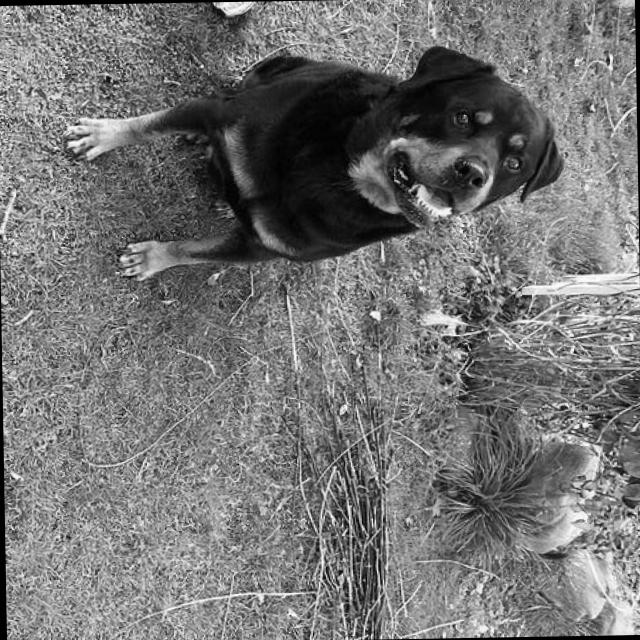sitting: (58, 35, 570, 290)
